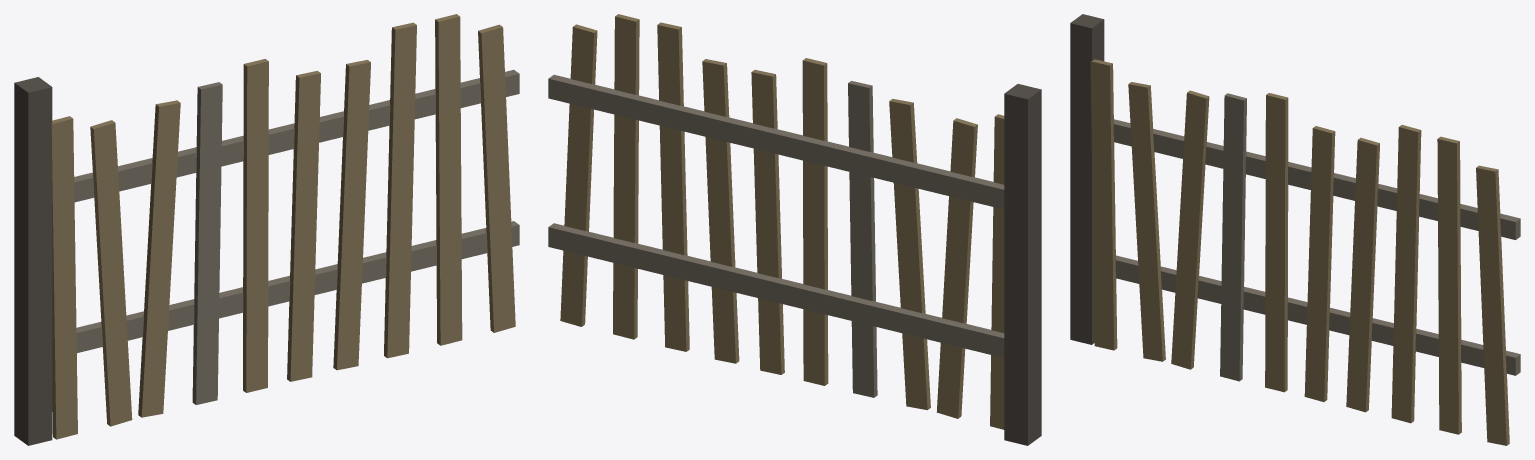
The model's file is fence_wood_3.glb.
3 views of the same model, side by side, from view 1: azimuth 30°, elevation 25°; view 2: azimuth 150°, elevation 25°; view 3: azimuth 330°, elevation 25° (orthographic). The views are drawn at different scales.
Parts seen in each view (by area): view 1: FenceWood; view 2: FenceWood; view 3: FenceWood.
Boxes of the visible parts, x1,y1,x2,y2 form: FenceWood: (14, 14, 519, 445); FenceWood: (548, 14, 1041, 445); FenceWood: (1070, 14, 1520, 445).
Size of the model in its own units: 2.05 by 1.4 by 0.1025.
